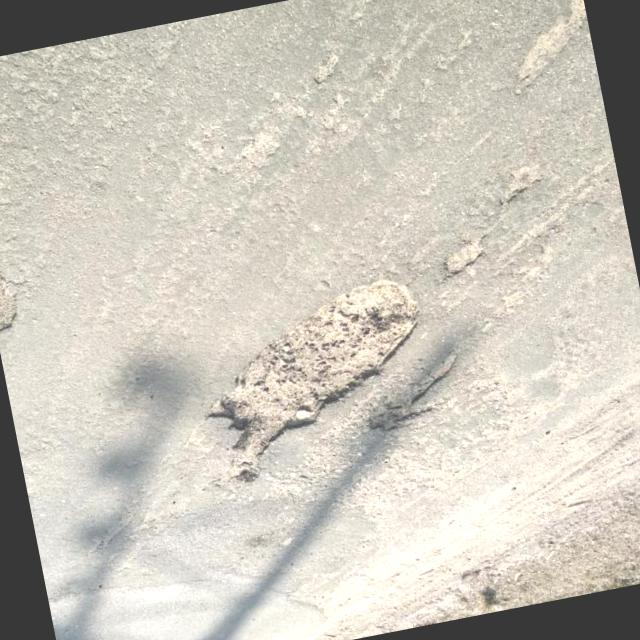pothole: (184, 270, 445, 493), (354, 348, 473, 440), (495, 0, 600, 101), (432, 235, 497, 283), (0, 254, 26, 337)
